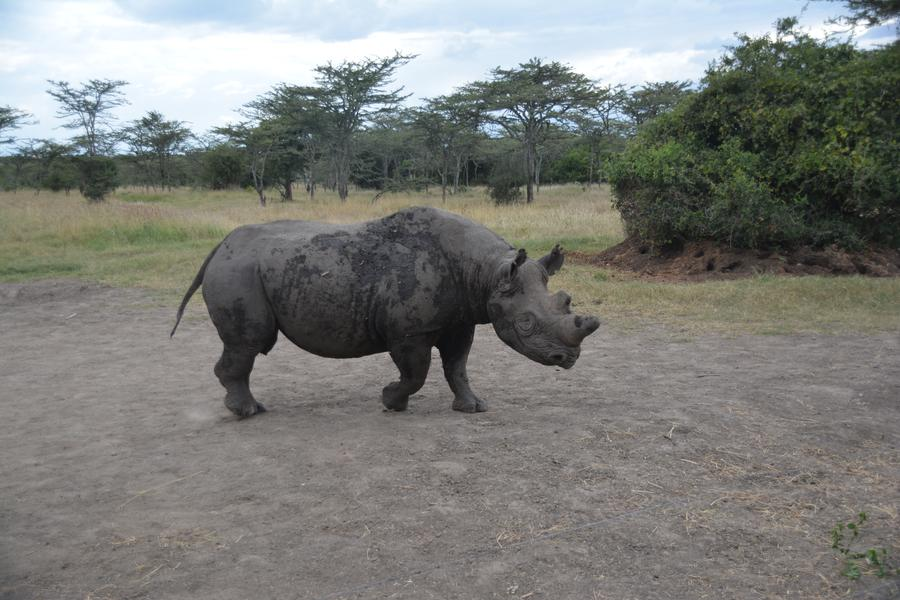rhino: (226, 204, 571, 410)
